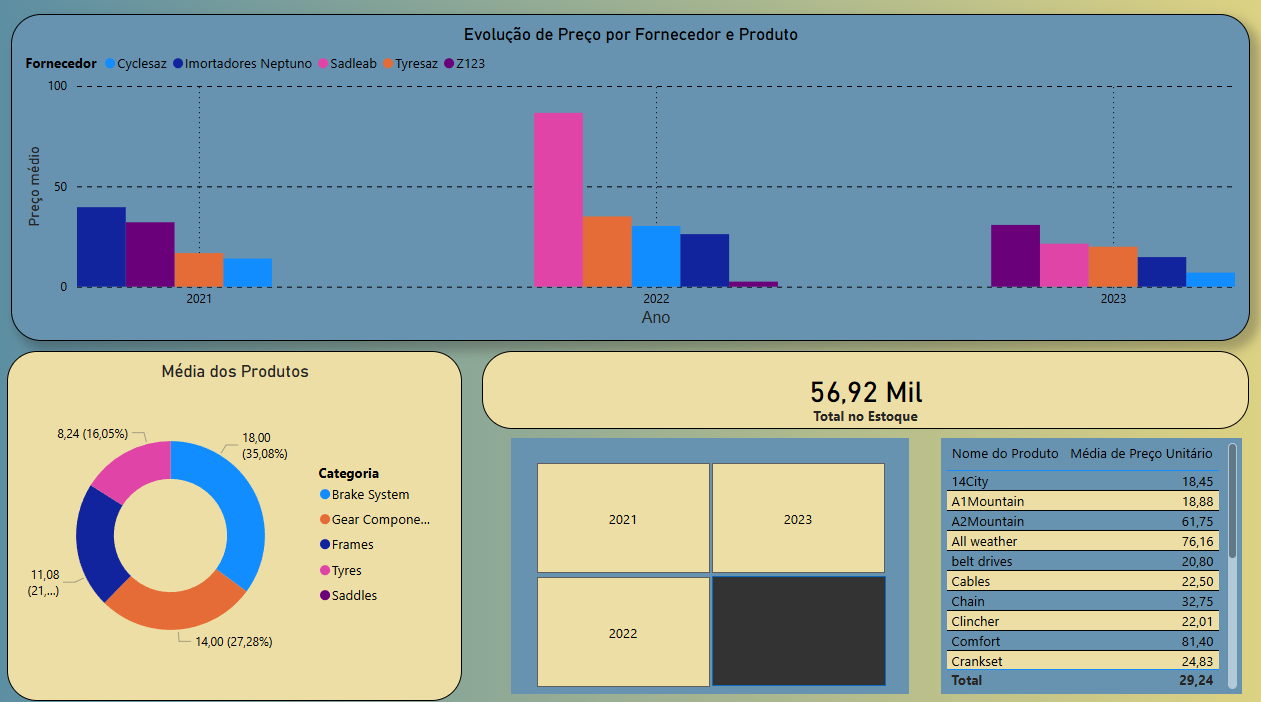

The dashboard page shown, as its layout file describes it:
{"tool":"powerbi","page":{"name":"Página 1","canvas":[1280,720],"ordinal":0},"visuals":[{"type":"clusteredColumnChart","title":"Evolução de Preço por Fornecedor e Produto","fields":{"Category":["Products.Data de Entrada.Variation.Hierarquia de datas.Ano"],"Y":["Avg(Products.Preço Unitário)"],"Series":["Products.Fornecedor"]},"box":[20.4,26.3,1238.2,326.8],"z":0},{"type":"card","title":"fwfdqw","fields":{"Values":["Sum(Products.Unidades em Estoque)"]},"box":[491.2,362.8,767.4,77.8],"z":0,"group":"g1"},{"type":"donutChart","title":"Média dos Produtos","fields":{"Y":["Avg(Products.Unidades sob Pedido)"],"Category":["Products.Categoria"]},"box":[16,362.7,454.6,350.7],"z":1000},{"type":"group","id":"g1","title":"Grupo 1","box":[491.2,362.8,767.4,77.8],"z":2000},{"type":"textbox","box":[800.5,414.3,149.8,35],"z":3000},{"type":"tableEx","fields":{"Values":["Products.Nome do Produto","Avg(Products.Preço Unitário)"]},"box":[950.3,449.6,300.8,256.8],"z":4000},{"type":"slicer","fields":{"Values":["Products.Data de Entrada.Variation.Hierarquia de datas.Ano"]},"box":[519.6,449.6,398.7,256.8],"z":5000},{"type":"shape","box":[721.3,588.1,173.2,110],"z":6000}]}

Visuals, with their boxes in screenshot pixels (x1, y1, x2, y2), scaled from the page's 1280x720 canvas onto the 1261x702 screenshot:
"Evolução de Preço por Fornecedor e Produto" clusteredColumnChart: <bbox>20, 26, 1240, 344</bbox>
"fwfdqw" card: <bbox>484, 354, 1240, 430</bbox>
"Média dos Produtos" donutChart: <bbox>16, 354, 464, 696</bbox>
"Grupo 1" group: <bbox>484, 354, 1240, 430</bbox>
textbox: <bbox>789, 404, 936, 438</bbox>
tableEx - Products.Nome do Produto x Avg(Products.Preço Unitário): <bbox>936, 438, 1233, 689</bbox>
slicer - Products.Data de Entrada.Variation.Hierarquia de datas.Ano: <bbox>512, 438, 905, 689</bbox>
shape: <bbox>711, 573, 881, 681</bbox>
